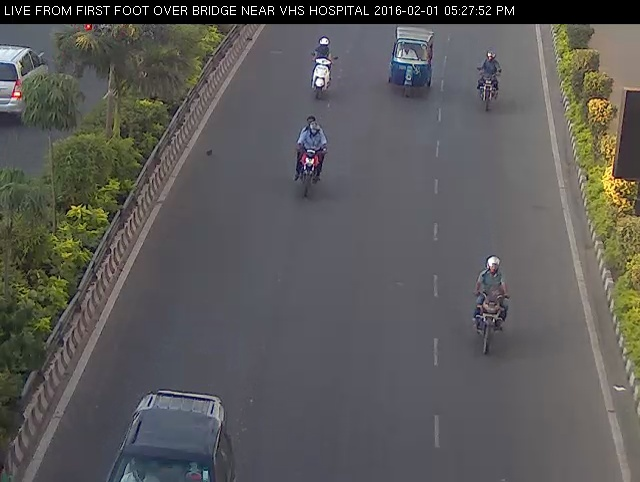Auto: (384, 24, 438, 103)
Car: (108, 378, 244, 482)
Person: (465, 242, 518, 359), (292, 112, 331, 204), (298, 33, 344, 102), (473, 49, 507, 118)
